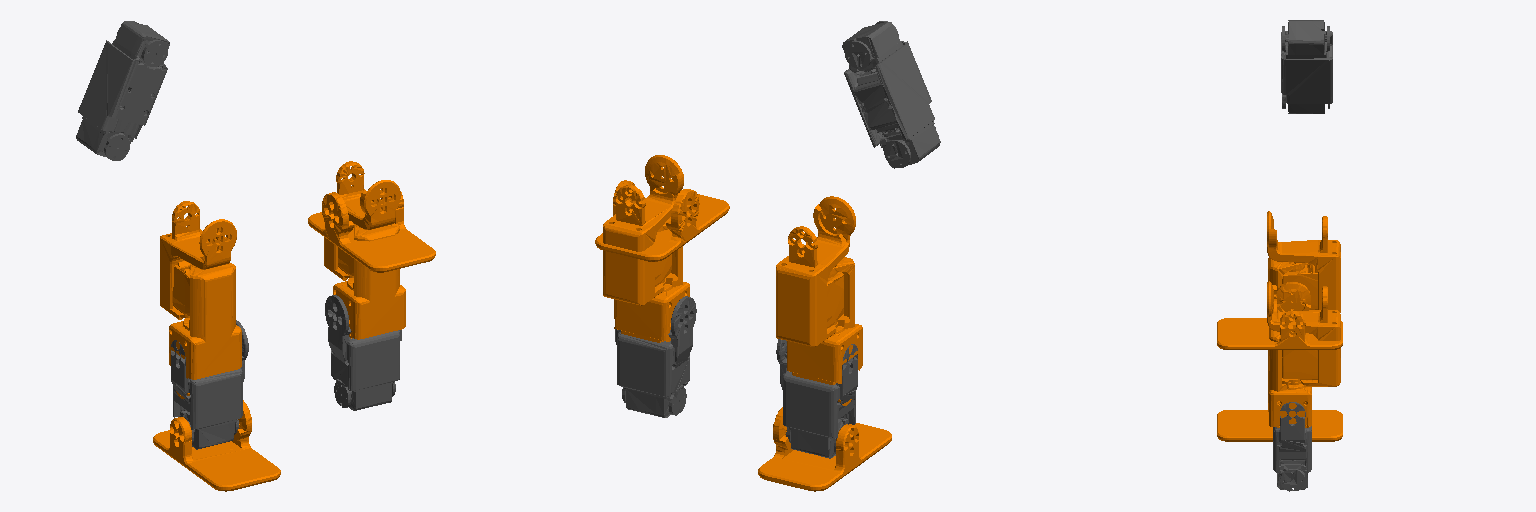
robot.urdf — opus:
<?xml version="1.0" ?>
<robot name="opus">
  <link name="base">
    <inertial>
      <origin rpy="0 0 0" xyz="0 0 0"/>
      <mass value="0.001"/>
      <inertia ixx="0.000001" ixy="0" ixz="0" iyy="0.000001" iyz="0" izz="0.000001"/>
    </inertial>
  </link>
  <joint name="floating_base" type="fixed">
    <origin rpy="0 0 0" xyz="0 0 0"/>
    <parent link="base"/>
    <child link="Torso"/>
  </joint>
  <link name="Torso">
    <visual>
      <origin xyz="0 0 0" rpy="0 0 0"/>
      <geometry>
        <mesh filename="meshes/Torso.stl"/>
      </geometry>
      <material name="Torso_material">
        <color rgba="0.97254902 0.52941176 0.0039215686 1"/>
      </material>
    </visual>
    <collision>
      <origin xyz="0 0 0" rpy="0 0 0"/>
      <geometry>
        <mesh filename="meshes/Torso.stl"/>
      </geometry>
    </collision>
    <inertial>
      <mass value="1.4248854441999999"/>
      <inertia ixx="0.0058765463412301395" iyy="0.007356520447853829" izz="0.0023081915779076274" ixy="9.865741890823216e-06" ixz="-7.809997435713428e-05" iyz="0.0004224337112785788"/>
      <origin xyz="0.0005354863436864534 0.0062555554048130445 -0.002152396880228525" rpy="0 0 0"/>
    </inertial>
  </link>
  <joint name="right_shoulder_pitch" type="revolute">
    <origin xyz="-0.07825018475169968 -0.0003268979182753165 0.04615118291827534" rpy="1.5707963 2.220446049250313e-16 1.5707963"/>
    <parent link="Torso"/>
    <child link="right_shoulder_yaw_2"/>
    <limit effort="80" velocity="5" lower="-1.7453293" upper="1.7453293"/>
    <axis xyz="0 0 1"/>
  </joint>
  <link name="right_shoulder_yaw_2">
    <visual>
      <origin xyz="0 0 0" rpy="0 0 0"/>
      <geometry>
        <mesh filename="meshes/right_shoulder_yaw.stl"/>
      </geometry>
      <material name="right_shoulder_yaw_material">
        <color rgba="0.97254902 0.52941176 0.0039215686 1"/>
      </material>
    </visual>
    <collision>
      <origin xyz="0 0 0" rpy="0 0 0"/>
      <geometry>
        <mesh filename="meshes/right_shoulder_yaw.stl"/>
      </geometry>
    </collision>
    <inertial>
      <mass value="0.033295451"/>
      <inertia ixx="8.4337445e-06" iyy="1.8636933e-05" izz="1.8203633e-05" ixy="0" ixz="0" iyz="-1.3716156e-06"/>
      <origin xyz="-0.000140403 -0.0029678782 -0.016943877" rpy="0 0 0"/>
    </inertial>
  </link>
  <joint name="left_shoulder_pitch" type="revolute">
    <origin xyz="0.07804981964830031 -0.0003268980817246539 0.04615118308172467" rpy="-1.5707963071795865 0.0 1.5707963000000003"/>
    <parent link="Torso"/>
    <child link="left_shoulder_yaw_2"/>
    <limit effort="80" velocity="5" lower="-1.7453293" upper="1.7453293"/>
    <axis xyz="0 0 1"/>
  </joint>
  <link name="left_shoulder_yaw_2">
    <visual>
      <origin xyz="0 0 0" rpy="0 0 0"/>
      <geometry>
        <mesh filename="meshes/left_shoulder_yaw.stl"/>
      </geometry>
      <material name="left_shoulder_yaw_material">
        <color rgba="0.97254902 0.52941176 0.0039215686 1"/>
      </material>
    </visual>
    <collision>
      <origin xyz="0 0 0" rpy="0 0 0"/>
      <geometry>
        <mesh filename="meshes/left_shoulder_yaw.stl"/>
      </geometry>
    </collision>
    <inertial>
      <mass value="0.033295444"/>
      <inertia ixx="8.4337338e-06" iyy="1.8636945e-05" izz="1.8203656e-05" ixy="0" ixz="0" iyz="1.3716155e-06"/>
      <origin xyz="-0.00014038019 0.0029678794 -0.016943901" rpy="0 0 0"/>
    </inertial>
  </link>
  <joint name="right_shoulder_yaw" type="revolute">
    <origin xyz="-0.018825 -0.01629921 -0.03" rpy="0 -1.5707963 0"/>
    <parent link="right_shoulder_yaw_2"/>
    <child link="right_shoulder_yaw_motor"/>
    <limit effort="80" velocity="5" lower="-1.134464" upper="0.87266463"/>
    <axis xyz="0 0 1"/>
  </joint>
  <link name="right_shoulder_yaw_motor">
    <visual>
      <origin xyz="0 0 0" rpy="0 0 0"/>
      <geometry>
        <mesh filename="meshes/right_shoulder_yaw_motor.stl"/>
      </geometry>
      <material name="right_shoulder_yaw_motor_material">
        <color rgba="0.4 0.4 0.4 1"/>
      </material>
    </visual>
    <collision>
      <origin xyz="0 0 0" rpy="0 0 0"/>
      <geometry>
        <mesh filename="meshes/right_shoulder_yaw_motor.stl"/>
      </geometry>
    </collision>
    <inertial>
      <mass value="0.16128786299999998"/>
      <inertia ixx="0.0001282286460978685" iyy="5.714169492467824e-05" izz="0.0001340210993915087" ixy="-4.239759029152751e-05" ixz="-1.1438396608325489e-07" iyz="-2.456214639269448e-07"/>
      <origin xyz="-0.015010430955184173 -0.032187644034412904 -0.01778065605422706" rpy="0 0 0"/>
    </inertial>
  </link>
  <joint name="right_hip_pitch" type="revolute">
    <origin xyz="-0.045750183202404315 -0.00032689585567163837 -0.10384882247403085" rpy="-1.570796353589792 -4.6410206566704915e-08 1.5707963000000003"/>
    <parent link="Torso"/>
    <child link="hip_yaw_right"/>
    <limit effort="80" velocity="5" lower="-1.5707963" upper="1.5707963"/>
    <axis xyz="0 0 -1"/>
  </joint>
  <link name="hip_yaw_right">
    <visual>
      <origin xyz="0 0 0" rpy="0 0 0"/>
      <geometry>
        <mesh filename="meshes/hip_yaw_right.stl"/>
      </geometry>
      <material name="hip_yaw_right_material">
        <color rgba="0.97254902 0.52941176 0.0039215686 1"/>
      </material>
    </visual>
    <collision>
      <origin xyz="0 0 0" rpy="0 0 0"/>
      <geometry>
        <mesh filename="meshes/hip_yaw_right.stl"/>
      </geometry>
    </collision>
    <inertial>
      <mass value="0.093205286"/>
      <inertia ixx="3.5980932688562516e-05" iyy="3.079475868405246e-05" izz="3.363688474491135e-05" ixy="-8.041868600591185e-08" ixz="-1.32710024572971e-07" iyz="2.5815838594594426e-07"/>
      <origin xyz="-0.007829567118794163 -0.00031535700327284103 0.01632971429397496" rpy="0 0 0"/>
    </inertial>
  </link>
  <joint name="left_hip_pitch" type="revolute">
    <origin xyz="0.045549819648300315 -0.0003268960191209584 -0.10384882247403085" rpy="1.5707963535897942 -4.6410206566704915e-08 1.5707963000000003"/>
    <parent link="Torso"/>
    <child link="hip_yaw_left"/>
    <limit effort="80" velocity="5" lower="-1.5707963" upper="1.5707963"/>
    <axis xyz="0 0 -1"/>
  </joint>
  <link name="hip_yaw_left">
    <visual>
      <origin xyz="0 0 0" rpy="0 0 0"/>
      <geometry>
        <mesh filename="meshes/hip_yaw_left.stl"/>
      </geometry>
      <material name="hip_yaw_left_material">
        <color rgba="0.97254902 0.52941176 0.0039215686 1"/>
      </material>
    </visual>
    <collision>
      <origin xyz="0 0 0" rpy="0 0 0"/>
      <geometry>
        <mesh filename="meshes/hip_yaw_left.stl"/>
      </geometry>
    </collision>
    <inertial>
      <mass value="0.093205265"/>
      <inertia ixx="3.598094322914315e-05" iyy="3.0794767684145586e-05" izz="3.363688296133449e-05" ixy="8.04201734823105e-08" ixz="-1.327123118684062e-07" iyz="-2.5815315823833023e-07"/>
      <origin xyz="-0.007829559049593036 0.0003153554269474904 0.01632971106200663" rpy="0 0 0"/>
    </inertial>
  </link>
  <joint name="left_shoulder_yaw" type="revolute">
    <origin xyz="-0.018825 0.01629921 -0.03" rpy="3.1415927 1.5707963 0"/>
    <parent link="left_shoulder_yaw_2"/>
    <child link="left_shoulder_yaw_motor"/>
    <limit effort="80" velocity="5" lower="-0.43633231" upper="1.5707963"/>
    <axis xyz="0 0 1"/>
  </joint>
  <link name="left_shoulder_yaw_motor">
    <visual>
      <origin xyz="0 0 0" rpy="0 0 0"/>
      <geometry>
        <mesh filename="meshes/left_shoulder_yaw_motor.stl"/>
      </geometry>
      <material name="left_shoulder_yaw_motor_material">
        <color rgba="0.4 0.4 0.4 1"/>
      </material>
    </visual>
    <collision>
      <origin xyz="0 0 0" rpy="0 0 0"/>
      <geometry>
        <mesh filename="meshes/left_shoulder_yaw_motor.stl"/>
      </geometry>
    </collision>
    <inertial>
      <mass value="0.161287862"/>
      <inertia ixx="0.00012823543337938677" iyy="5.71349654400984e-05" izz="0.00013402113588758784" ixy="4.236890115425267e-05" ixz="1.1438294712508704e-07" iyz="-2.4561958173304096e-07"/>
      <origin xyz="0.015010431336856738 -0.03218764425115605 -0.017780665683893915" rpy="0 0 0"/>
    </inertial>
  </link>
  <joint name="right_hip_yaw" type="revolute">
    <origin xyz="-0.02550000162875169 0.012500001141551514 0.019359999918275368" rpy="9.282041333256968e-08 1.5707963000000005 0.0"/>
    <parent link="hip_yaw_right"/>
    <child link="hip_roll_right"/>
    <limit effort="80" velocity="5" lower="-0.087266463" upper="1.5707963"/>
    <axis xyz="0 0 1"/>
  </joint>
  <link name="hip_roll_right">
    <visual>
      <origin xyz="0 0 0" rpy="0 0 0"/>
      <geometry>
        <mesh filename="meshes/hip_roll_right.stl"/>
      </geometry>
      <material name="hip_roll_right_material">
        <color rgba="0.97254902 0.52941176 0.0039215686 1"/>
      </material>
    </visual>
    <collision>
      <origin xyz="0 0 0" rpy="0 0 0"/>
      <geometry>
        <mesh filename="meshes/hip_roll_right.stl"/>
      </geometry>
    </collision>
    <inertial>
      <mass value="0.09928883999999999"/>
      <inertia ixx="5.45820585897724e-05" iyy="3.1418507176367875e-05" izz="3.7405777942224154e-05" ixy="6.085393720802971e-08" ixz="-1.365718623147563e-08" iyz="-2.939852904112034e-06"/>
      <origin xyz="3.956240018912118e-05 0.044547258633220656 0.027195276046662446" rpy="0 0 0"/>
    </inertial>
  </link>
  <joint name="left_hip_yaw" type="revolute">
    <origin xyz="-0.02550000297464769 -0.012500001 0.01936000008172467" rpy="-3.1415926071795863 -1.5707963 0.0"/>
    <parent link="hip_yaw_left"/>
    <child link="hip_roll_left"/>
    <limit effort="80" velocity="5" lower="-1.5707963" upper="0.087266463"/>
    <axis xyz="0 0 1"/>
  </joint>
  <link name="hip_roll_left">
    <visual>
      <origin xyz="0 0 0" rpy="0 0 0"/>
      <geometry>
        <mesh filename="meshes/hip_roll_left.stl"/>
      </geometry>
      <material name="hip_roll_left_material">
        <color rgba="0.97254902 0.52941176 0.0039215686 1"/>
      </material>
    </visual>
    <collision>
      <origin xyz="0 0 0" rpy="0 0 0"/>
      <geometry>
        <mesh filename="meshes/hip_roll_left.stl"/>
      </geometry>
    </collision>
    <inertial>
      <mass value="0.099288915"/>
      <inertia ixx="5.458213655994396e-05" iyy="3.1418545608837986e-05" izz="3.7405827480720214e-05" ixy="-6.085408209304445e-08" ixz="1.3657291982195708e-08" iyz="-2.9398246336732913e-06"/>
      <origin xyz="-3.956346057105248e-05 0.0445472299493746 0.0271952803565074" rpy="0 0 0"/>
    </inertial>
  </link>
  <joint name="righ_elbow_yaw" type="revolute">
    <origin xyz="-0.030003116165437632 -0.06434189265302206 -0.00015000392836930906" rpy="3.141592518707449 -1.961380480253183e-08 2.7052603000000013"/>
    <parent link="right_shoulder_yaw_motor"/>
    <child link="right_hand"/>
    <limit effort="80" velocity="5" lower="1.5707963" upper="4.71"/>
    <axis xyz="0 0 1"/>
  </joint>
  <link name="right_hand">
    <visual>
      <origin xyz="0 0 0" rpy="0 0 0"/>
      <geometry>
        <mesh filename="meshes/right_hand.stl"/>
      </geometry>
      <material name="right_hand_material">
        <color rgba="0.98039216 0.71372549 0.0039215686 1"/>
      </material>
    </visual>
    <collision>
      <origin xyz="0 0 0" rpy="0 0 0"/>
      <geometry>
        <mesh filename="meshes/right_hand.stl"/>
      </geometry>
    </collision>
    <inertial>
      <mass value="0.057633913"/>
      <inertia ixx="4.3605723e-05" iyy="1.217183e-05" izz="3.5510016e-05" ixy="0" ixz="0" iyz="1.2142684e-06"/>
      <origin xyz="-3.1209033e-05 -0.045881174 0.018344256" rpy="0 0 0"/>
    </inertial>
  </link>
  <joint name="left_elbow_yaw" type="revolute">
    <origin xyz="0.03000311710160605 -0.06434189183411612 -0.00015000134589600138" rpy="3.1415926071795863 -1.7763568394002505e-15 -2.70526039"/>
    <parent link="left_shoulder_yaw_motor"/>
    <child link="left_hand"/>
    <limit effort="80" velocity="5" lower="1.5707963" upper="4.71"/>
    <axis xyz="0 0 1"/>
  </joint>
  <link name="left_hand">
    <visual>
      <origin xyz="0 0 0" rpy="0 0 0"/>
      <geometry>
        <mesh filename="meshes/left_hand.stl"/>
      </geometry>
      <material name="left_hand_material">
        <color rgba="0.98039216 0.71372549 0.0039215686 1"/>
      </material>
    </visual>
    <collision>
      <origin xyz="0 0 0" rpy="0 0 0"/>
      <geometry>
        <mesh filename="meshes/left_hand.stl"/>
      </geometry>
    </collision>
    <inertial>
      <mass value="0.057634594"/>
      <inertia ixx="4.3606206e-05" iyy="1.2172072e-05" izz="3.5510313e-05" ixy="0" ixz="0" iyz="1.2144458e-06"/>
      <origin xyz="3.124228e-05 -0.045881024 0.018344103" rpy="0 0 0"/>
    </inertial>
  </link>
  <joint name="right_hip_roll" type="revolute">
    <origin xyz="0.0 0.06776001387753285 0.015000000939161373" rpy="-1.5707963 0.0 0.0"/>
    <parent link="hip_roll_right"/>
    <child link="knee_pitch_right"/>
    <limit effort="80" velocity="5" lower="-0.78539816" upper="0.78539816"/>
    <axis xyz="0 0 -1"/>
  </joint>
  <link name="knee_pitch_right">
    <visual>
      <origin xyz="0 0 0" rpy="0 0 0"/>
      <geometry>
        <mesh filename="meshes/knee_pitch_right.stl"/>
      </geometry>
      <material name="knee_pitch_right_material">
        <color rgba="0.97254902 0.52941176 0.0039215686 1"/>
      </material>
    </visual>
    <collision>
      <origin xyz="0 0 0" rpy="0 0 0"/>
      <geometry>
        <mesh filename="meshes/knee_pitch_right.stl"/>
      </geometry>
    </collision>
    <inertial>
      <mass value="0.017415556"/>
      <inertia ixx="8.6779628e-06" iyy="1.0846052e-05" izz="4.8769685e-06" ixy="0" ixz="0" iyz="1.5102056e-06"/>
      <origin xyz="0.0008320716 0.0066344401 -0.0053563614" rpy="0 0 0"/>
    </inertial>
  </link>
  <joint name="left_hip_roll" type="revolute">
    <origin xyz="0.0 0.06776001212246713 0.014999999060838654" rpy="-1.5707963071795865 0.0 0.0"/>
    <parent link="hip_roll_left"/>
    <child link="knee_pitch_left"/>
    <limit effort="80" velocity="5" lower="-0.78539816" upper="0.78539816"/>
    <axis xyz="0 0 -1"/>
  </joint>
  <link name="knee_pitch_left">
    <visual>
      <origin xyz="0 0 0" rpy="0 0 0"/>
      <geometry>
        <mesh filename="meshes/knee_pitch_left.stl"/>
      </geometry>
      <material name="knee_pitch_left_material">
        <color rgba="0.97254902 0.52941176 0.0039215686 1"/>
      </material>
    </visual>
    <collision>
      <origin xyz="0 0 0" rpy="0 0 0"/>
      <geometry>
        <mesh filename="meshes/knee_pitch_left.stl"/>
      </geometry>
    </collision>
    <inertial>
      <mass value="0.017415406"/>
      <inertia ixx="8.6779408e-06" iyy="1.0845969e-05" izz="4.8769057e-06" ixy="0" ixz="0" iyz="1.5102123e-06"/>
      <origin xyz="-0.00083189379 0.0066344111 -0.0053564637" rpy="0 0 0"/>
    </inertial>
  </link>
  <joint name="left_knee_pitch" type="revolute">
    <origin xyz="0.018825 0 0.02221" rpy="1.5707963 0 -1.5707963"/>
    <parent link="knee_pitch_left"/>
    <child link="ankle_pitch_left"/>
    <limit effort="80" velocity="5" lower="-1.5707963" upper="1.5707963"/>
    <axis xyz="0 0 -1"/>
  </joint>
  <link name="ankle_pitch_left">
    <visual>
      <origin xyz="0 0 0" rpy="0 0 0"/>
      <geometry>
        <mesh filename="meshes/ankle_pitch_left.stl"/>
      </geometry>
      <material name="ankle_pitch_left_material">
        <color rgba="0.4 0.4 0.4 1"/>
      </material>
    </visual>
    <collision>
      <origin xyz="0 0 0" rpy="0 0 0"/>
      <geometry>
        <mesh filename="meshes/ankle_pitch_left.stl"/>
      </geometry>
    </collision>
    <inertial>
      <mass value="0.164074011"/>
      <inertia ixx="0.0001759891275884663" iyy="3.8396680240248e-05" izz="0.0001617316694012751" ixy="8.172012592062923e-09" ixz="-5.793353129267912e-16" iyz="-5.5025788380171526e-12"/>
      <origin xyz="5.2852977297875645e-11 0.03886000044248171 0.01767796761874614" rpy="0 0 0"/>
    </inertial>
  </link>
  <joint name="right_knee_pitch" type="revolute">
    <origin xyz="-0.018825 0 0.02221" rpy="-1.5707963 0 -1.5707963"/>
    <parent link="knee_pitch_right"/>
    <child link="ankle_pitch_right"/>
    <limit effort="80" velocity="5" lower="-1.5707963" upper="1.5707963"/>
    <axis xyz="0 0 -1"/>
  </joint>
  <link name="ankle_pitch_right">
    <visual>
      <origin xyz="0 0 0" rpy="0 0 0"/>
      <geometry>
        <mesh filename="meshes/ankle_pitch_right.stl"/>
      </geometry>
      <material name="ankle_pitch_right_material">
        <color rgba="0.4 0.4 0.4 1"/>
      </material>
    </visual>
    <collision>
      <origin xyz="0 0 0" rpy="0 0 0"/>
      <geometry>
        <mesh filename="meshes/ankle_pitch_right.stl"/>
      </geometry>
    </collision>
    <inertial>
      <mass value="0.164074011"/>
      <inertia ixx="0.00017599112233775987" iyy="3.839863803219483e-05" izz="0.0001617317061595657" ixy="-8.175358152241977e-09" ixz="-7.329977678382562e-11" iyz="-1.0385897269029696e-06"/>
      <origin xyz="-1.2427714698980854e-10 -0.03886000031058351 0.017450949790695548" rpy="0 0 0"/>
    </inertial>
  </link>
  <joint name="right_ankle_pitch" type="revolute">
    <origin xyz="0.0 0 0" rpy="9.282041357749903e-08 0.0 0.0"/>
    <parent link="ankle_pitch_right"/>
    <child link="foot_right"/>
    <limit effort="80" velocity="5" lower="-1.5707963" upper="1.5707963"/>
    <axis xyz="0 0 1"/>
  </joint>
  <link name="foot_right">
    <visual>
      <origin xyz="0 0 0" rpy="0 0 0"/>
      <geometry>
        <mesh filename="meshes/foot_right.stl"/>
      </geometry>
      <material name="foot_right_material">
        <color rgba="0.97254902 0.52941176 0.0039215686 1"/>
      </material>
    </visual>
    <collision>
      <origin xyz="0 0 0" rpy="0 0 0"/>
      <geometry>
        <mesh filename="meshes/foot_right.stl"/>
      </geometry>
    </collision>
    <inertial>
      <mass value="0.074314817"/>
      <inertia ixx="1.9631338e-05" iyy="7.1603877e-05" izz="6.0479365e-05" ixy="1.1859313e-06" ixz="0" iyz="0"/>
      <origin xyz="-0.0090965446 0.022946882 0.018633716" rpy="0 0 0"/>
    </inertial>
  </link>
  <joint name="left_ankle_pitch" type="revolute">
    <origin xyz="0.0 -0.07771999985844844 -0.000499991045895997" rpy="9.282041357749903e-08 0.0 0.0"/>
    <parent link="ankle_pitch_left"/>
    <child link="foot_left"/>
    <limit effort="80" velocity="5" lower="-1.5707963" upper="1.5707963"/>
    <axis xyz="0 0 1"/>
  </joint>
  <link name="foot_left">
    <visual>
      <origin xyz="0 0 0" rpy="0 0 0"/>
      <geometry>
        <mesh filename="meshes/foot_left.stl"/>
      </geometry>
      <material name="foot_left_material">
        <color rgba="0.97254902 0.52941176 0.0039215686 1"/>
      </material>
    </visual>
    <collision>
      <origin xyz="0 0 0" rpy="0 0 0"/>
      <geometry>
        <mesh filename="meshes/foot_left.stl"/>
      </geometry>
    </collision>
    <inertial>
      <mass value="0.074314614"/>
      <inertia ixx="1.9631258e-05" iyy="7.1603127e-05" izz="6.0478707e-05" ixy="-1.18593e-06" ixz="0" iyz="0"/>
      <origin xyz="-0.0090963699 -0.022946876 0.018633446" rpy="0 0 0"/>
    </inertial>
  </link>
</robot>

--- Facts derived from the render (not from the file) ---
Views: 3 orthographic renders of the robot side by side, from view 1: azimuth 30°, elevation 25°; view 2: azimuth 150°, elevation 25°; view 3: azimuth 270°, elevation 25°.
Model opus with 18 links and 17 joints (16 revolute, 1 fixed), rooted at base, posed joints at zero except 2 at the middle of their limits (righ_elbow_yaw = 3.14, left_elbow_yaw = 3.14).
Links seen in each view (by area): view 1: right_shoulder_yaw_motor, knee_pitch_right, ankle_pitch_left, hip_roll_right, ankle_pitch_right, foot_right, knee_pitch_left, foot_left, hip_roll_left; view 2: right_shoulder_yaw_motor, hip_roll_right, hip_roll_left, ankle_pitch_left, ankle_pitch_right, foot_right, knee_pitch_right, foot_left, knee_pitch_left; view 3: right_shoulder_yaw_motor, foot_left, hip_roll_left, hip_roll_right, ankle_pitch_left, foot_right, knee_pitch_left, knee_pitch_right.
Link boxes in pixels (x1,y1,x2,y2): right_shoulder_yaw_motor: (76, 21, 169, 160); knee_pitch_right: (169, 263, 241, 398); ankle_pitch_left: (325, 295, 401, 410); hip_roll_right: (160, 201, 236, 319); ankle_pitch_right: (171, 320, 248, 449); foot_right: (153, 400, 280, 491); knee_pitch_left: (333, 223, 405, 339); foot_left: (308, 192, 435, 272); hip_roll_left: (324, 161, 400, 280); right_shoulder_yaw_motor: (842, 21, 940, 168); hip_roll_right: (776, 196, 855, 346); hip_roll_left: (603, 155, 683, 305); ankle_pitch_left: (615, 296, 696, 417); ankle_pitch_right: (776, 339, 857, 458); foot_right: (758, 407, 891, 491); knee_pitch_right: (787, 257, 862, 405); foot_left: (595, 180, 729, 261); knee_pitch_left: (614, 217, 689, 342); right_shoulder_yaw_motor: (1281, 20, 1332, 113); foot_left: (1217, 282, 1342, 349); hip_roll_left: (1267, 281, 1340, 386); hip_roll_right: (1267, 211, 1340, 312); ankle_pitch_left: (1273, 402, 1311, 491); foot_right: (1217, 410, 1342, 441); knee_pitch_left: (1268, 328, 1311, 427); knee_pitch_right: (1268, 258, 1305, 288).
Size in the robot's own frame: 0.2398 by 0.1 by 0.3305 metres.
Meshes: 17 distinct files referenced, 9 mesh visuals loaded (9 binary STL); not drawn: 8 (reference not matched to a file when rendering).
